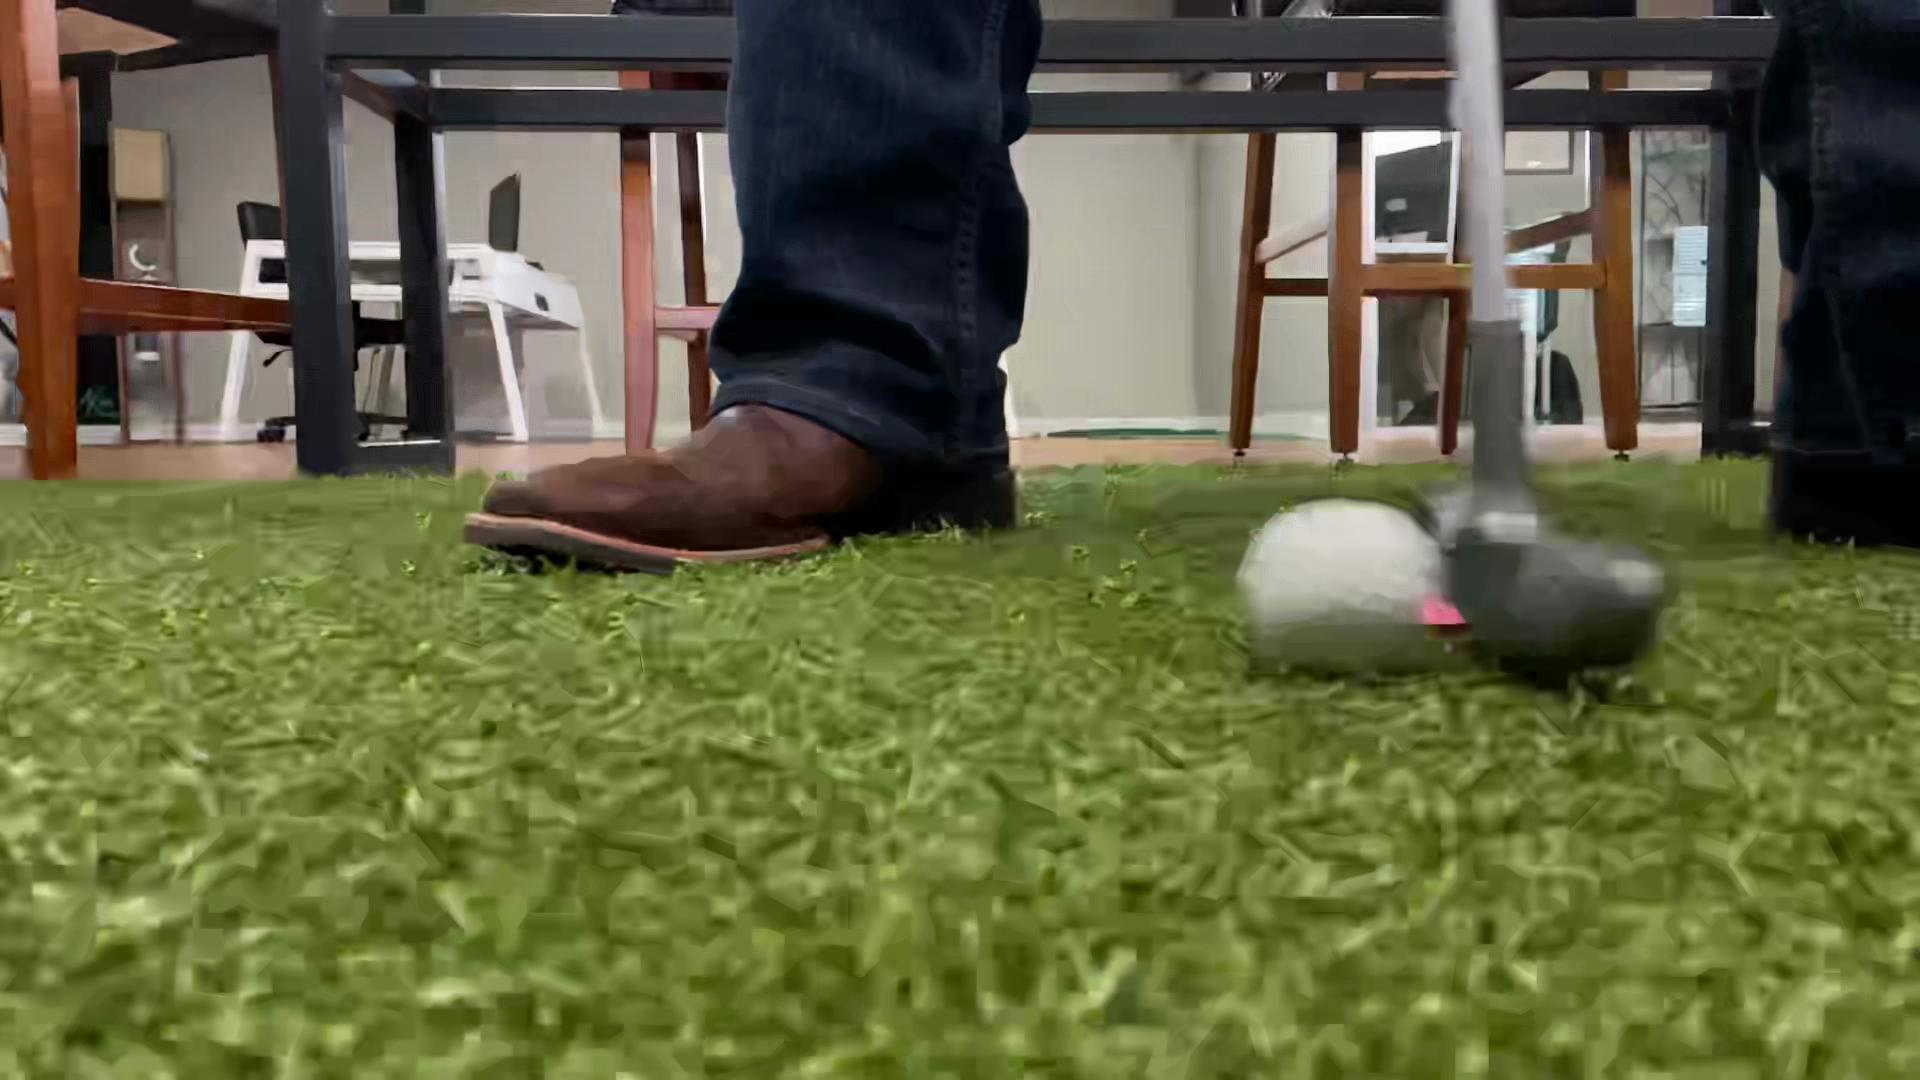golfball: (1236, 498, 1442, 680)
